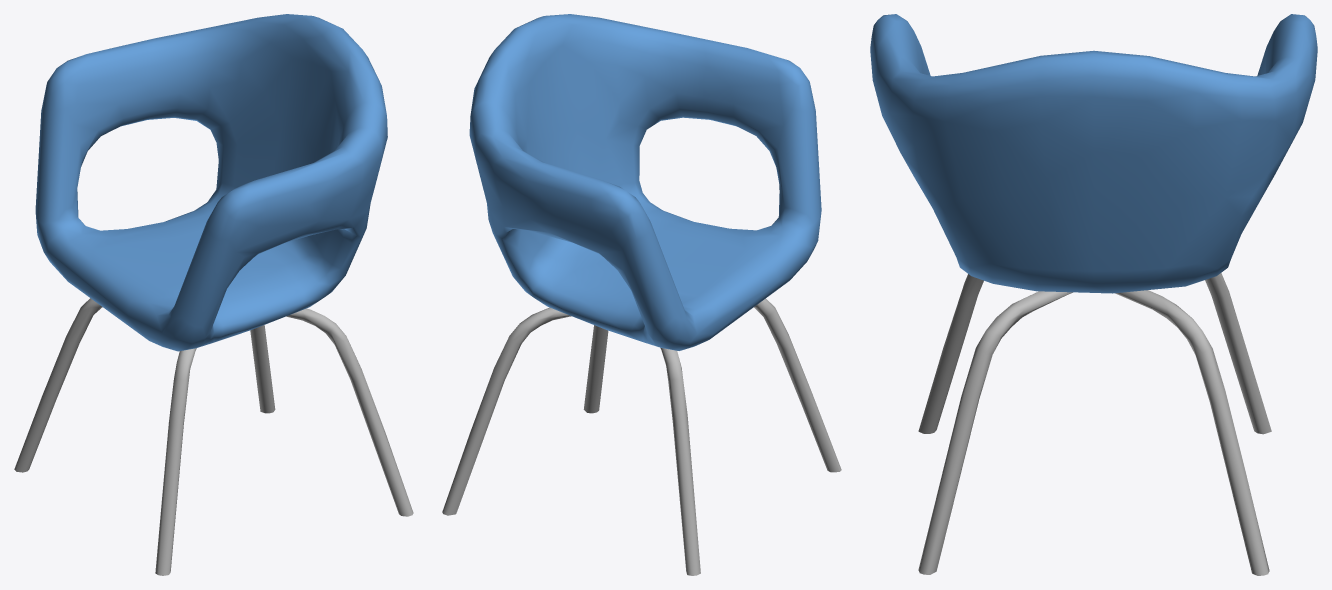
File: chair_07_blue.fbx
The picture shows the model from 3 angles, left to right: view 1: azimuth 30°, elevation 25°; view 2: azimuth 150°, elevation 25°; view 3: azimuth 270°, elevation 25°; orthographic projection. The views are drawn at different scales.
Visible parts, largest first — view 1: chair_07_blue; view 2: chair_07_blue; view 3: chair_07_blue.
Boxes of the visible parts, box(x1,y1,x2,y2) form: chair_07_blue: box(14, 14, 413, 575); chair_07_blue: box(442, 14, 841, 575); chair_07_blue: box(870, 14, 1317, 575).
Bounding box in the file's own units: 51.53 × 81.16 × 63.67.
2 materials, 2 textured.
